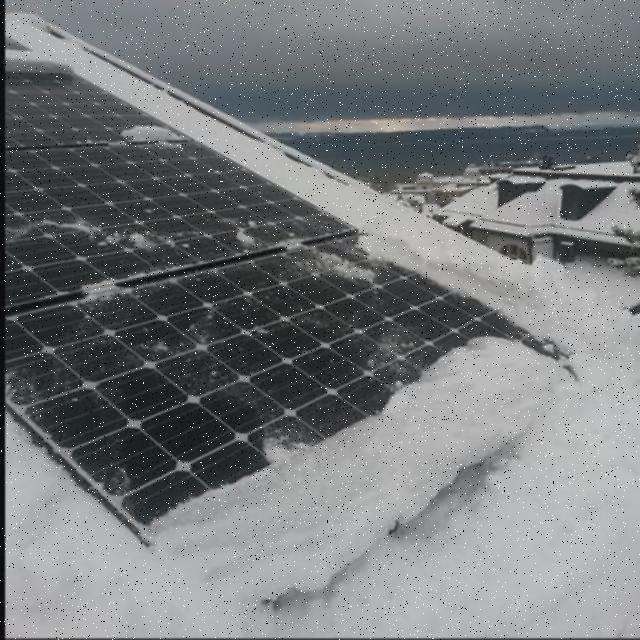snow covered: (4, 212, 590, 633)
